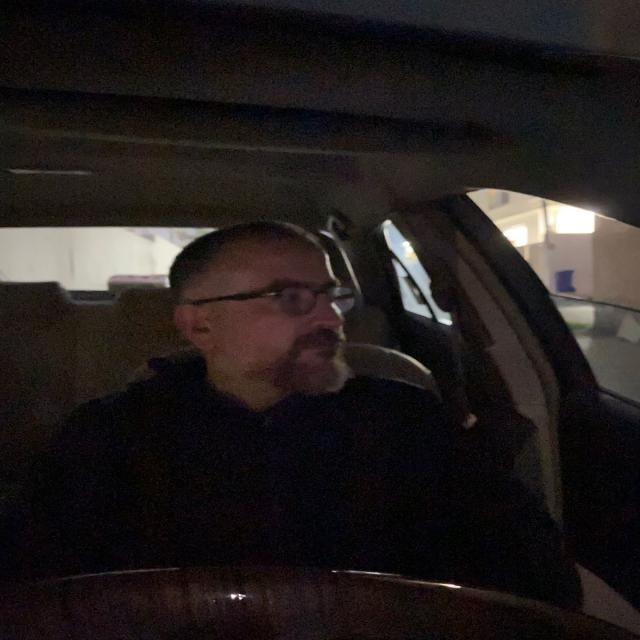LeftRight: (162, 214, 370, 402)
